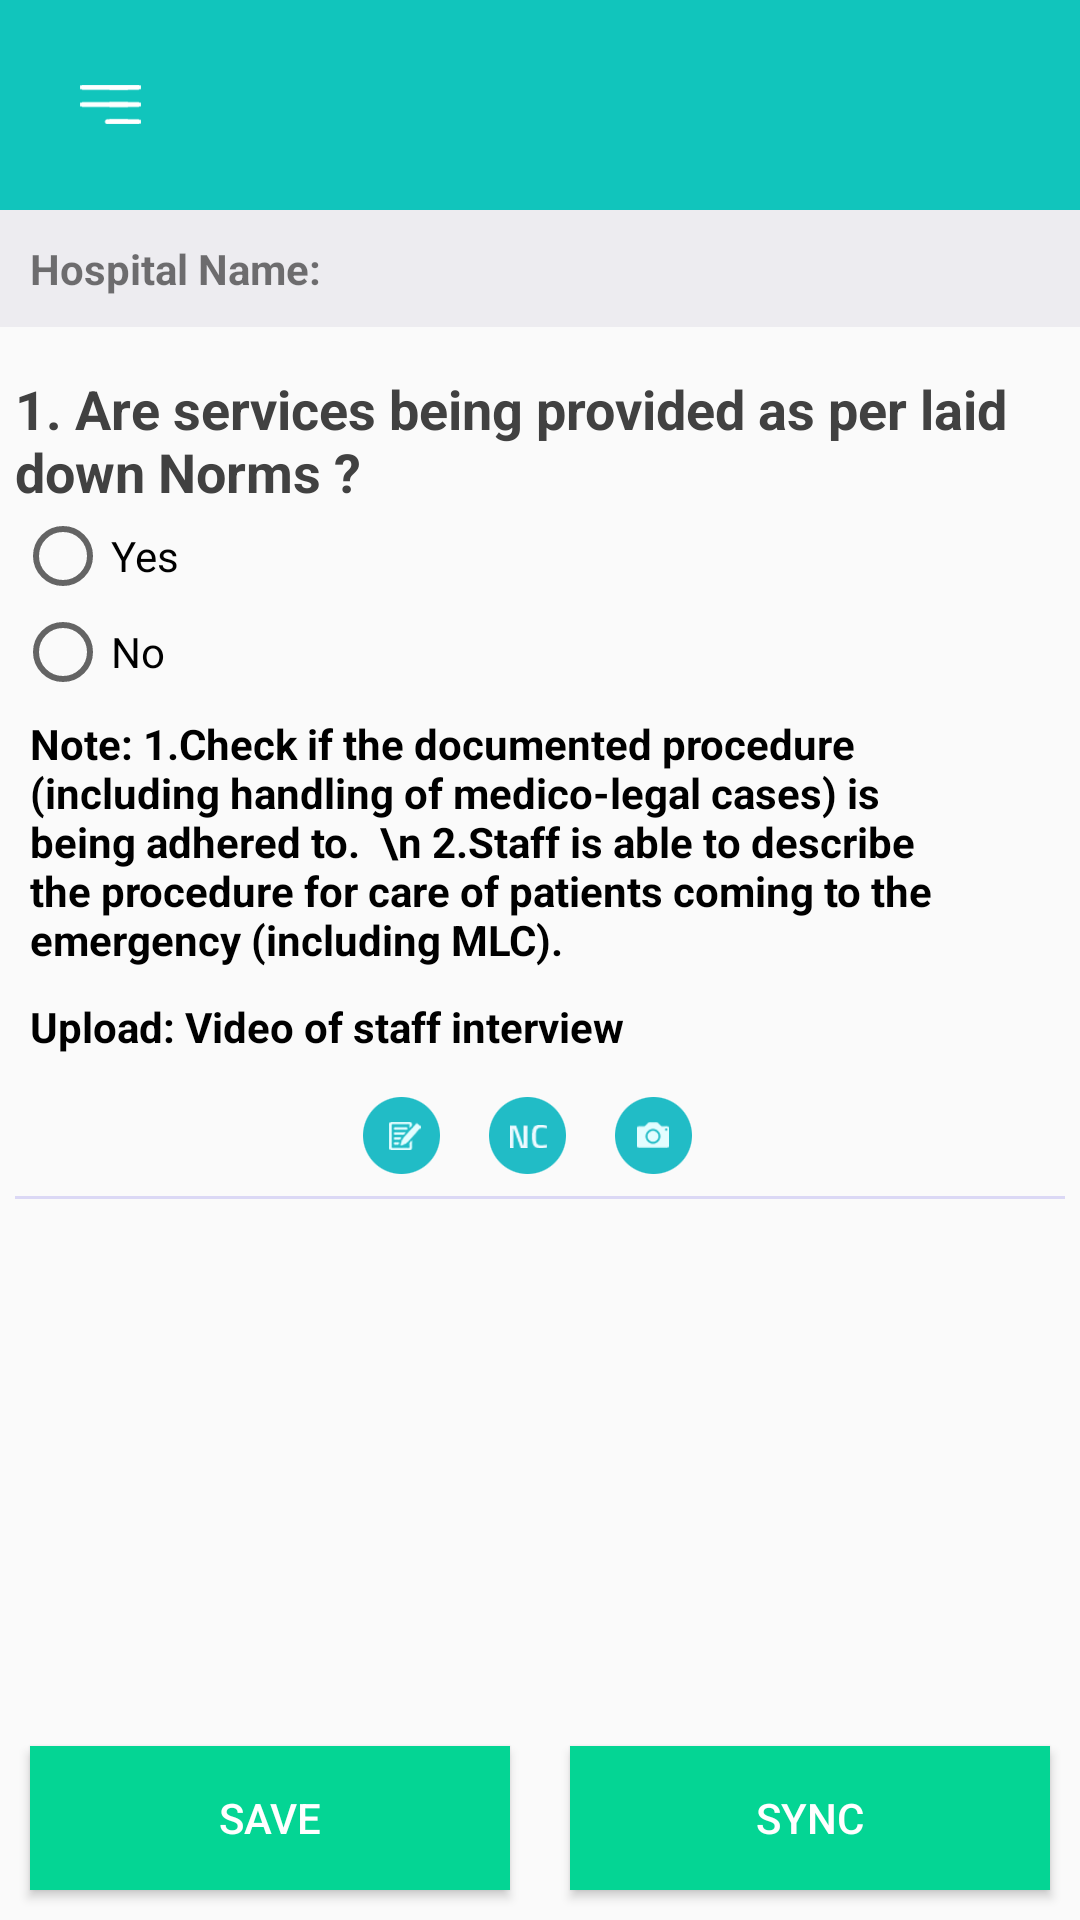

Icons on this 1080x1920 Android screen, each with the point to tap as [x,y]:
camera: [653,1135]
nav: [110,104]
remark: [401,1135]
